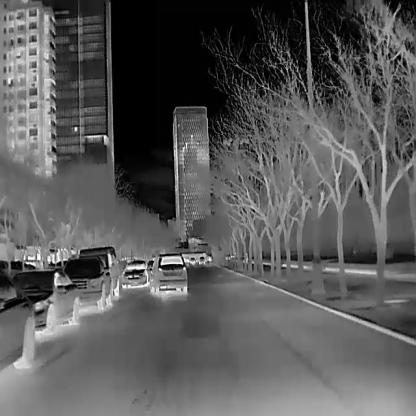car: (10, 268, 78, 332), (0, 270, 36, 370), (64, 256, 112, 311), (78, 246, 120, 298), (148, 250, 188, 292), (121, 258, 148, 287)
